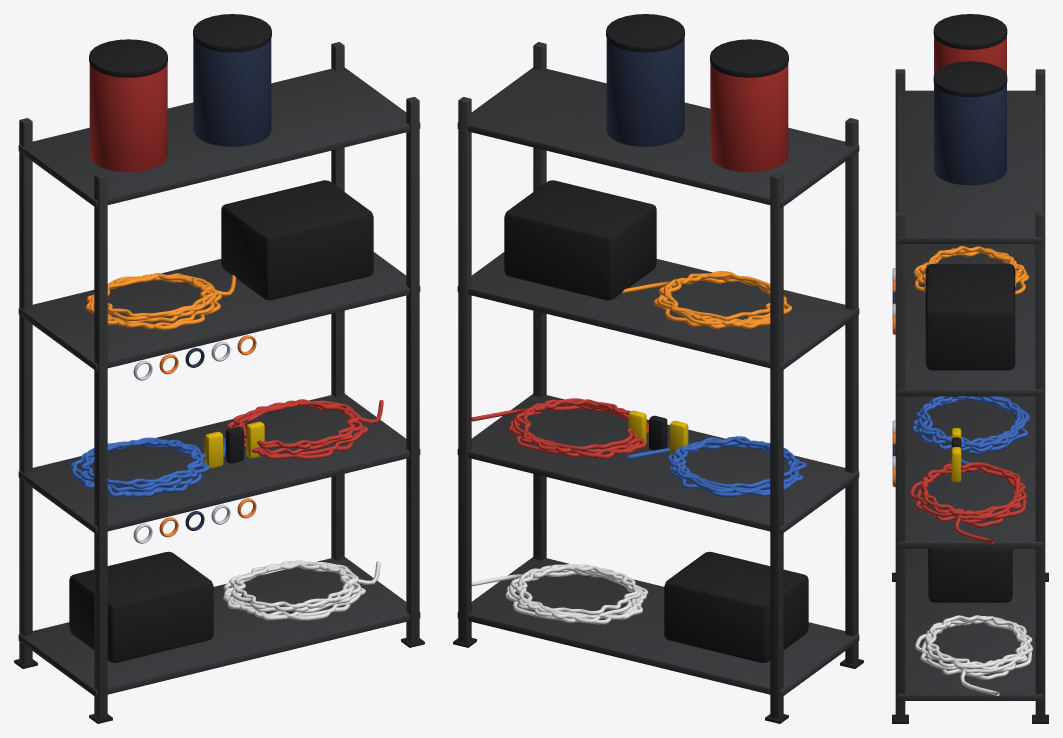
File: scaffale-quota 2.glb
The picture shows the model from 3 angles, left to right: view 1: azimuth 30°, elevation 25°; view 2: azimuth 150°, elevation 25°; view 3: azimuth 270°, elevation 25°; orthographic projection. The views are drawn at different scales.
Visible parts, largest first — view 1: scaffale, scaffale_cassette, scaffale_dettagli, scaffale_corde; view 2: scaffale, scaffale_cassette, scaffale_dettagli, scaffale_corde; view 3: scaffale, scaffale_cassette, scaffale_dettagli, scaffale_corde.
Boxes of the visible parts, left/top/right/bottom form: scaffale: left=18, top=42, right=420, bottom=719; scaffale_cassette: left=69, top=180, right=373, bottom=662; scaffale_dettagli: left=14, top=14, right=424, bottom=723; scaffale_corde: left=70, top=273, right=383, bottom=620; scaffale: left=457, top=42, right=859, bottom=719; scaffale_cassette: left=504, top=180, right=808, bottom=662; scaffale_dettagli: left=453, top=14, right=863, bottom=723; scaffale_corde: left=471, top=271, right=806, bottom=624; scaffale: left=895, top=69, right=1045, bottom=720; scaffale_cassette: left=925, top=264, right=1015, bottom=602; scaffale_dettagli: left=892, top=14, right=1048, bottom=723; scaffale_corde: left=909, top=246, right=1032, bottom=695.
Bounding box in the file's own units: 1.31 × 2.28 × 0.56.
